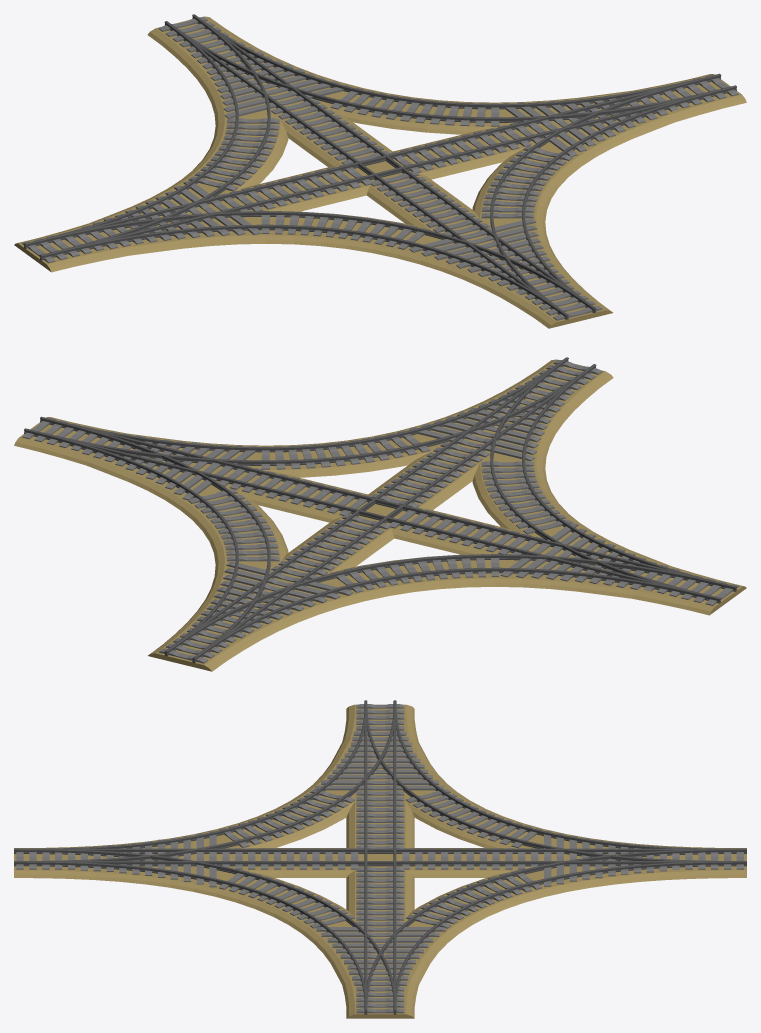
The model's file is crisscross.fbx.
The picture shows the model from 3 angles, top to bottom: view 1: azimuth 30°, elevation 25°; view 2: azimuth 150°, elevation 25°; view 3: azimuth 270°, elevation 25°; orthographic projection. The views are drawn at different scales.
Parts seen in each view (by area): view 1: crisscross; view 2: crisscross; view 3: crisscross.
Boxes of the visible parts, box(x1,y1,x2,y2) form: crisscross: box(14, 14, 746, 328); crisscross: box(14, 357, 746, 671); crisscross: box(14, 700, 746, 1018).
Size of the model in its own units: 4001 by 50.52 by 4000.
Materials: 1 (1 with a texture image).
